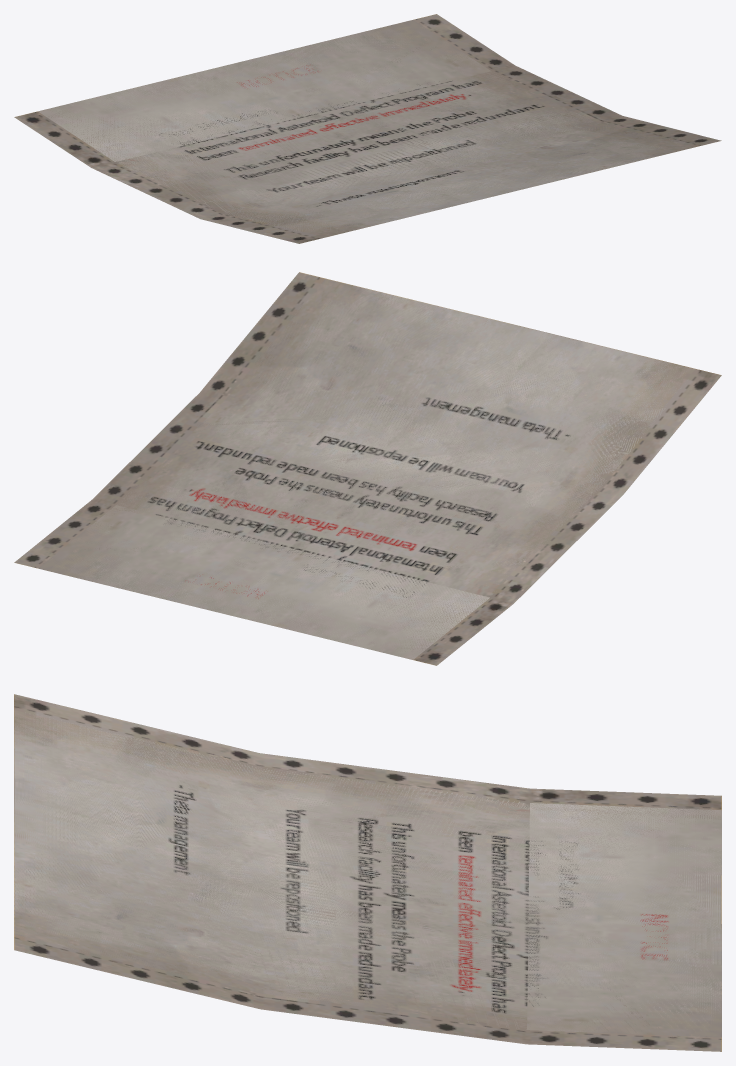
The model's file is notes_mission_aborted_02.dae.
The picture shows the model from 3 angles, top to bottom: view 1: azimuth 30°, elevation 25°; view 2: azimuth 150°, elevation 25°; view 3: azimuth 270°, elevation 25°; orthographic projection. The views are drawn at different scales.
Parts seen in each view (by area): view 1: terminated; view 2: terminated; view 3: terminated.
Part boxes in pixels (x1,y1,x2,y2): terminated: (14, 14, 721, 243); terminated: (14, 272, 721, 665); terminated: (14, 694, 721, 1051).
Bounding box in the file's own units: 0.2113 × 0.0391 × 0.2468.
